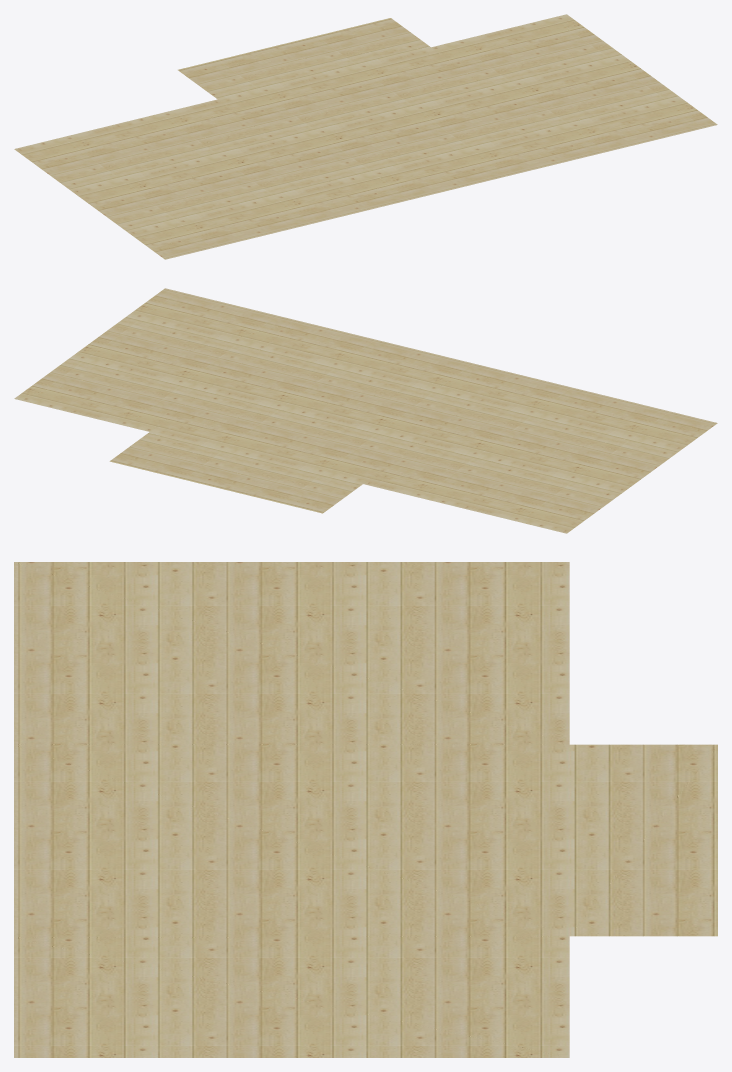
File: aws_FloorB_01_visual.DAE
3 views of the same model, one above another, from view 1: azimuth 30°, elevation 25°; view 2: azimuth 150°, elevation 25°; view 3: azimuth 270°, elevation 25° (orthographic). The views are drawn at different scales.
Visible parts, largest first — view 1: aws_FloorB_01_visual; view 2: aws_FloorB_01_visual; view 3: aws_FloorB_01_visual.
Part boxes in pixels (x1,y1,x2,y2): aws_FloorB_01_visual: (14,14,717,259); aws_FloorB_01_visual: (14,288,717,533); aws_FloorB_01_visual: (14,562,717,1057).
Size of the model in its own units: 1900 by 1140 by 0.
Materials: 1 (1 with a texture image).
